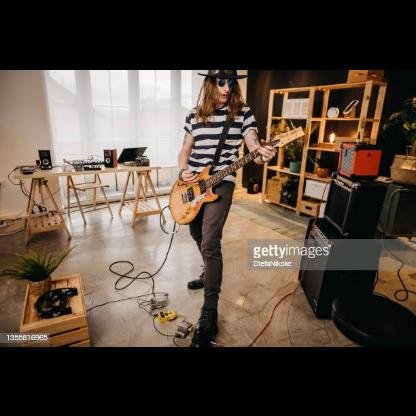guitar: (167, 123, 307, 225)
